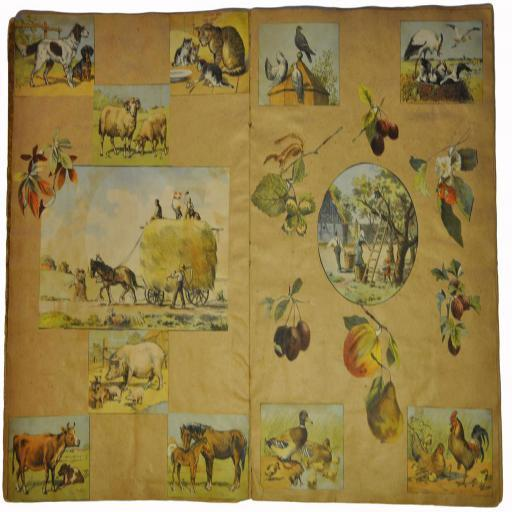horse: (178, 420, 246, 492), (88, 258, 140, 306), (170, 436, 212, 492), (94, 250, 136, 304)
